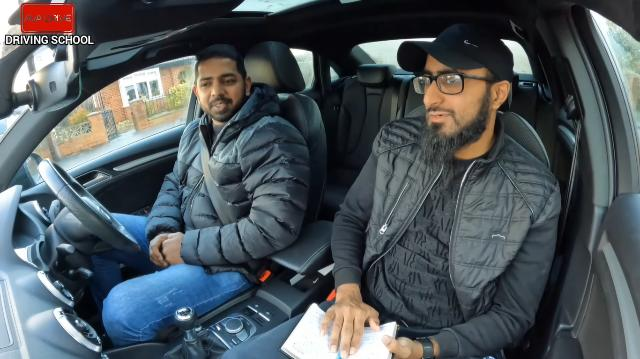no seatbelt: (362, 149, 532, 338)
seatbelt: (132, 114, 384, 324)
